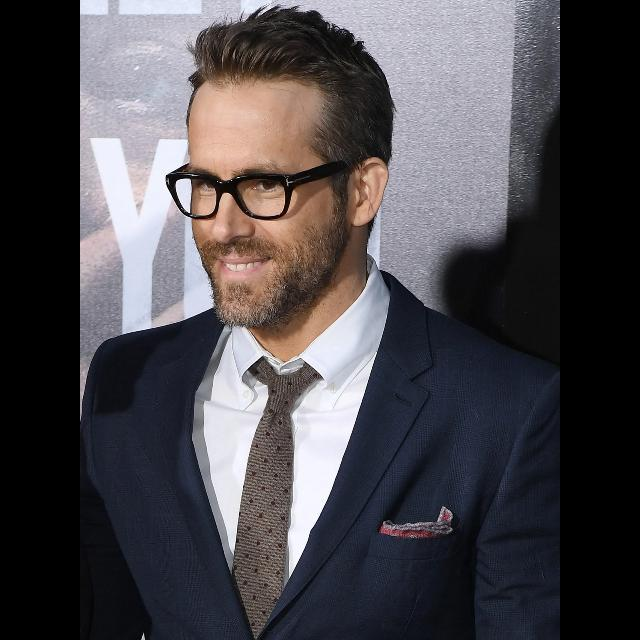glasses: (160, 164, 334, 224)
